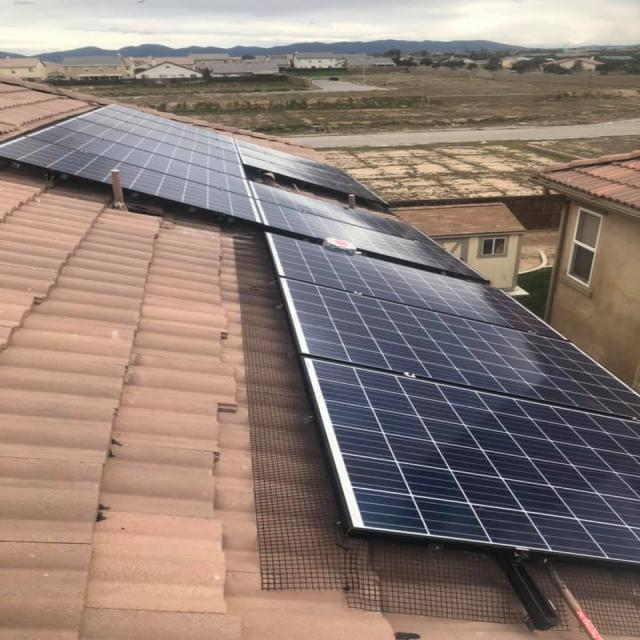clean-solar-panel: (2, 105, 637, 564)
